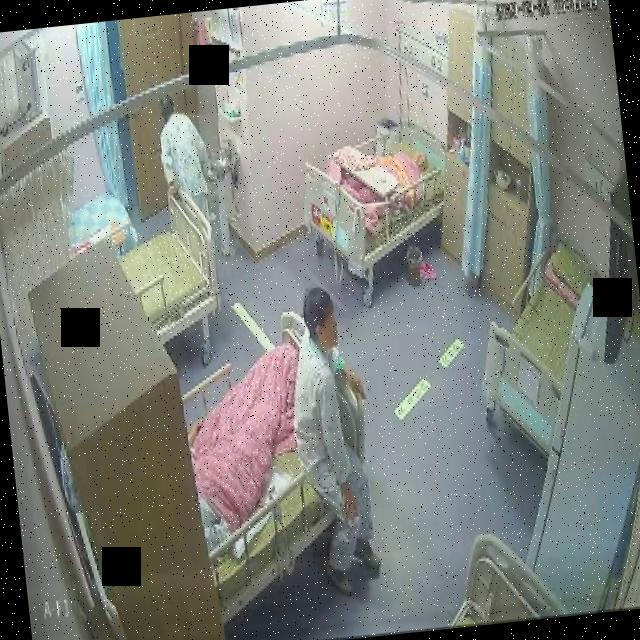bed: (174, 306, 382, 588), (282, 102, 454, 306), (467, 250, 606, 464), (110, 179, 226, 348)
patient: (270, 282, 387, 594), (148, 82, 220, 201)
sit: (271, 282, 386, 590)
stand: (151, 81, 219, 198)
